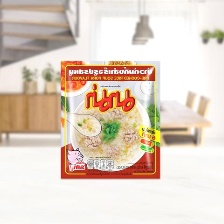snack: (53, 50, 170, 185)
